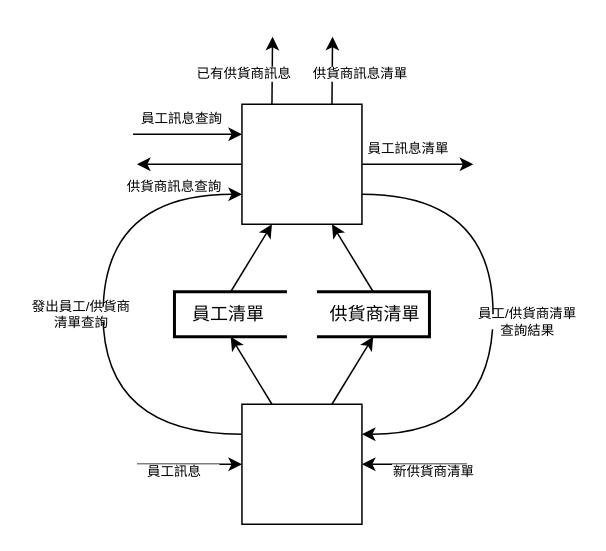
Some shapes in this 606 by 551 pixel diagram are drawn without their labels. Here are the shapes that lost their labels. From the top down, the centre of each, then its label:
At (301,163): "4:查詢".
At (301,463): "4:更新".
